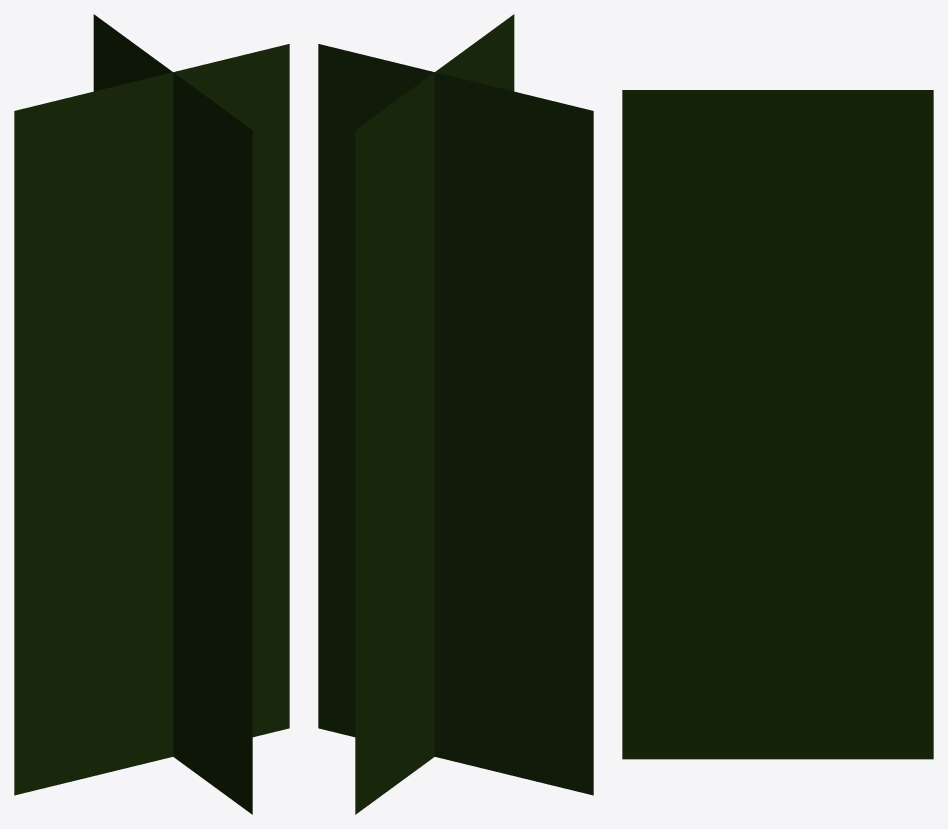
Rendered from RT PlantMOB V06 DS.FBX.
3 renders of one model, left to right at view 1: azimuth 30°, elevation 25°; view 2: azimuth 150°, elevation 25°; view 3: azimuth 270°, elevation 25°, orthographic. The views are drawn at different scales.
Visible parts, largest first — view 1: RT PlantMOB V06 DS; view 2: RT PlantMOB V06 DS; view 3: RT PlantMOB V06 DS.
Part boxes in pixels (x1,y1,x2,y2): RT PlantMOB V06 DS: (14,14,289,814); RT PlantMOB V06 DS: (318,14,593,814); RT PlantMOB V06 DS: (622,90,933,759).
Bounding box in the file's own units: 0.7696 × 1.83 × 0.7696.
